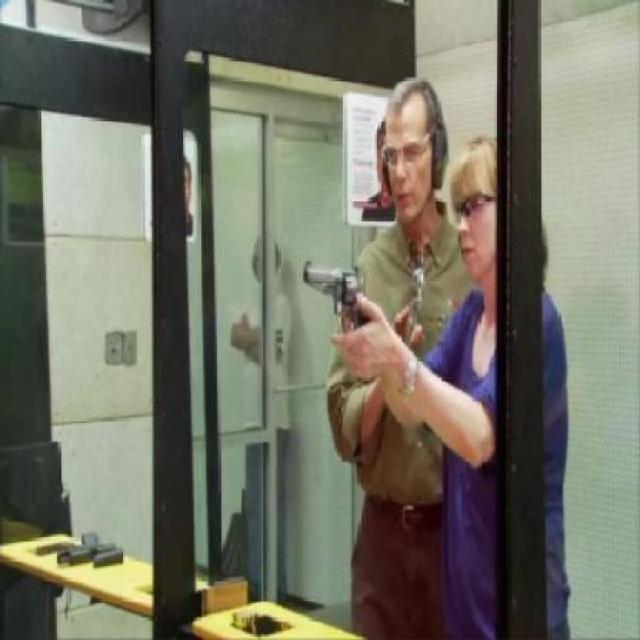Handgun: (303, 259, 369, 345)
